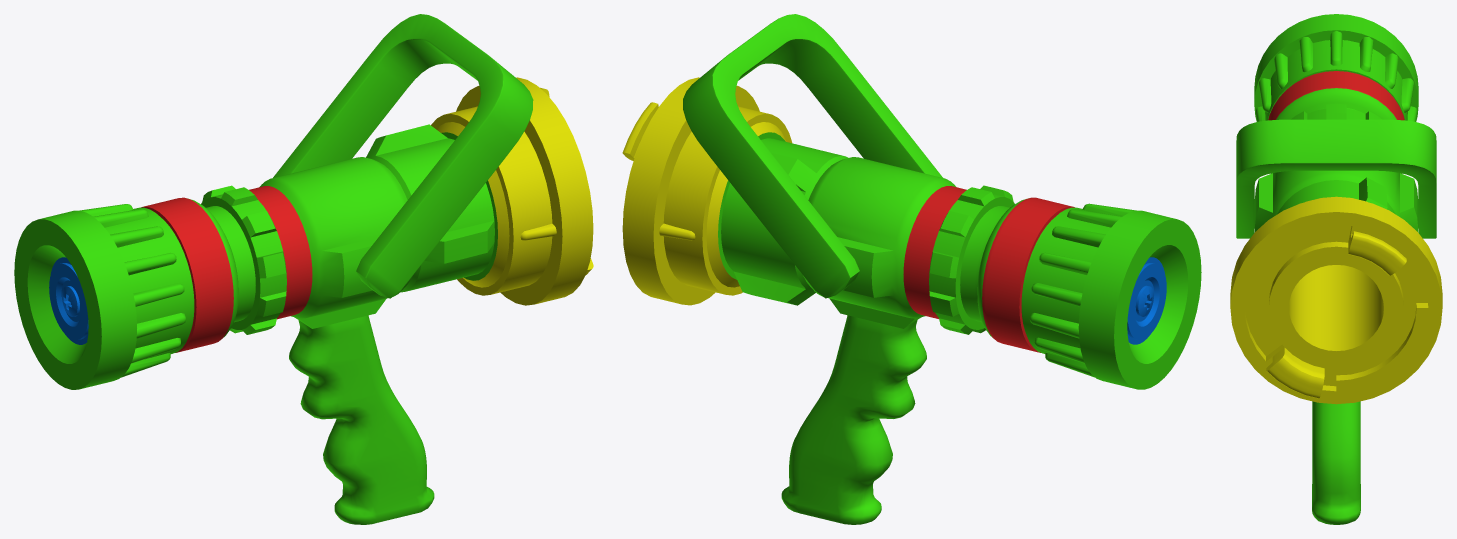
Rendered from FireHoseNozzle.FBX.
3 renders of one model, left to right at view 1: azimuth 30°, elevation 25°; view 2: azimuth 150°, elevation 25°; view 3: azimuth 270°, elevation 25°, orthographic. The views are drawn at different scales.
Parts seen in each view (by area): view 1: FireHoseNozzle; view 2: FireHoseNozzle; view 3: FireHoseNozzle.
Part boxes in pixels (bbox=[...]): FireHoseNozzle: bbox=[14, 14, 593, 524]; FireHoseNozzle: bbox=[622, 14, 1201, 524]; FireHoseNozzle: bbox=[1230, 14, 1442, 524].
Size of the model in its own units: 28.2 by 24.32 by 11.05.
